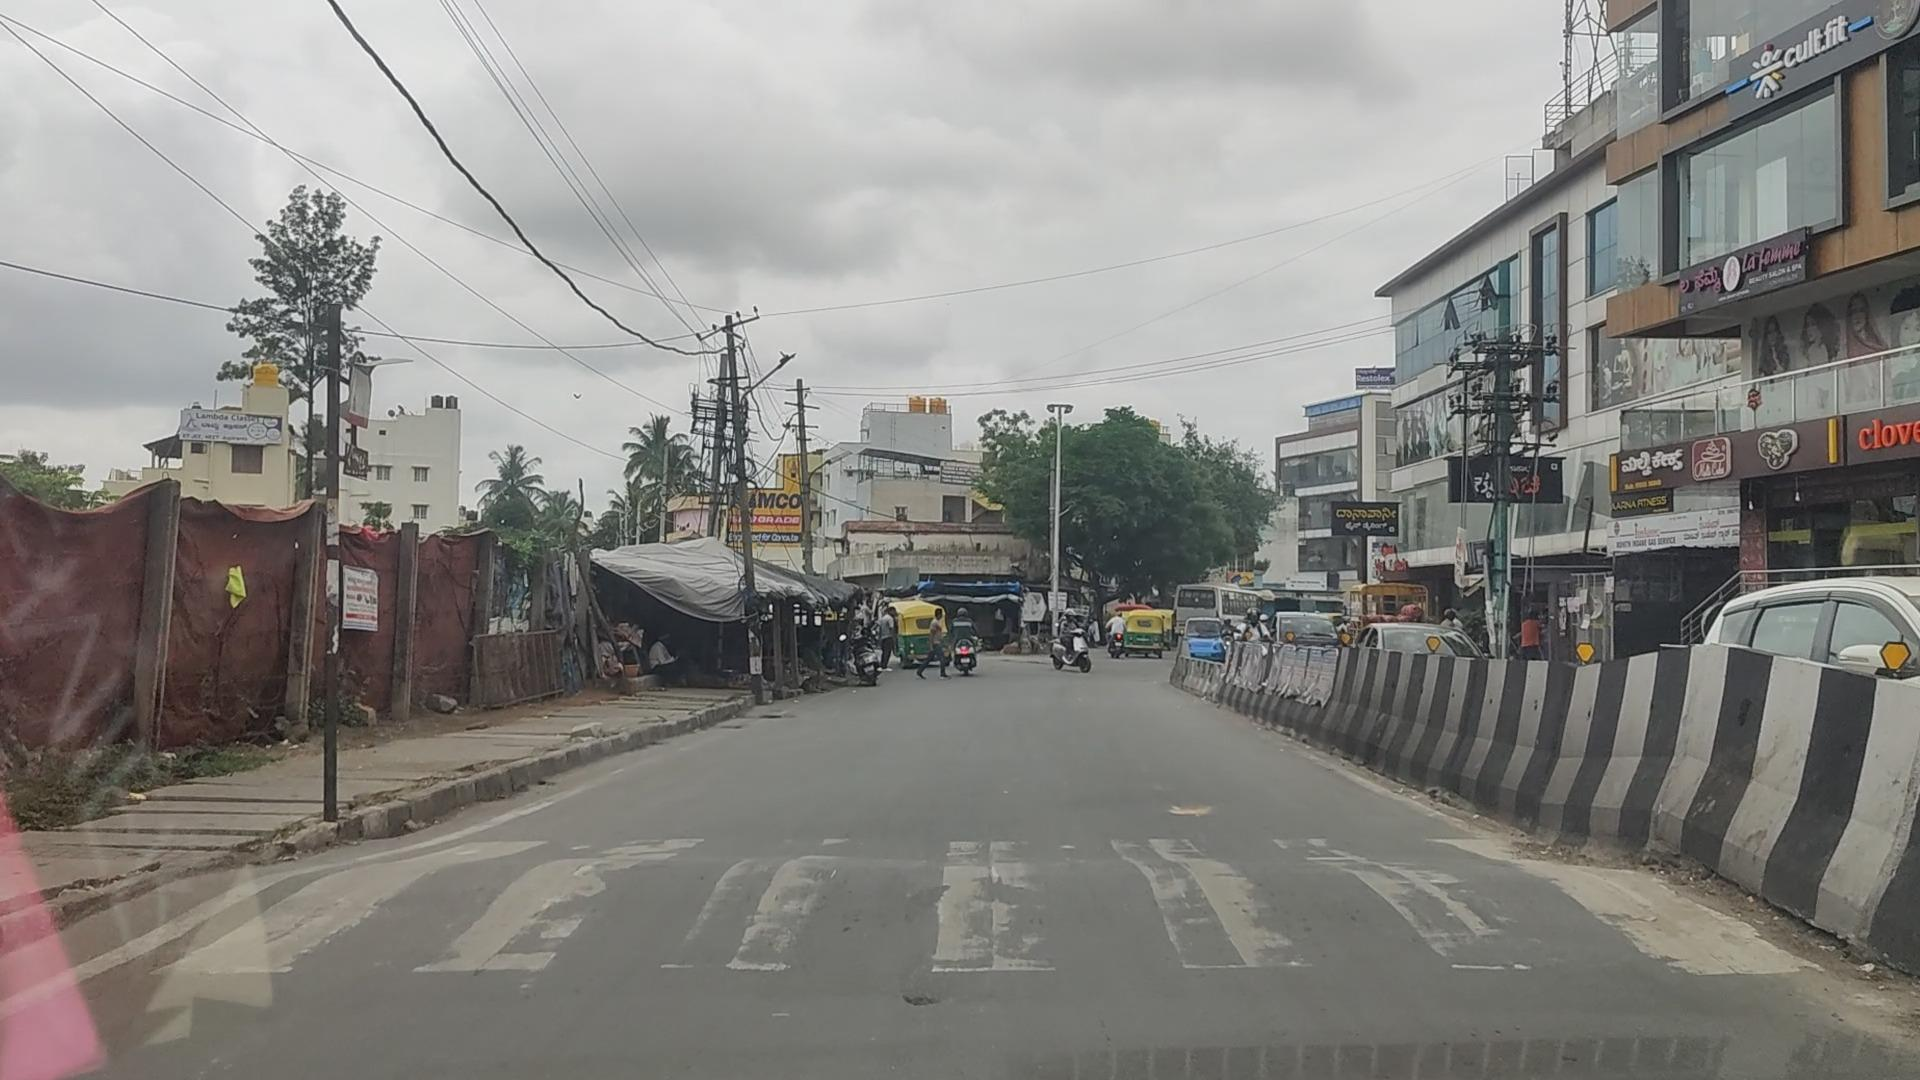SpeedBump: (290, 840, 1750, 984)
